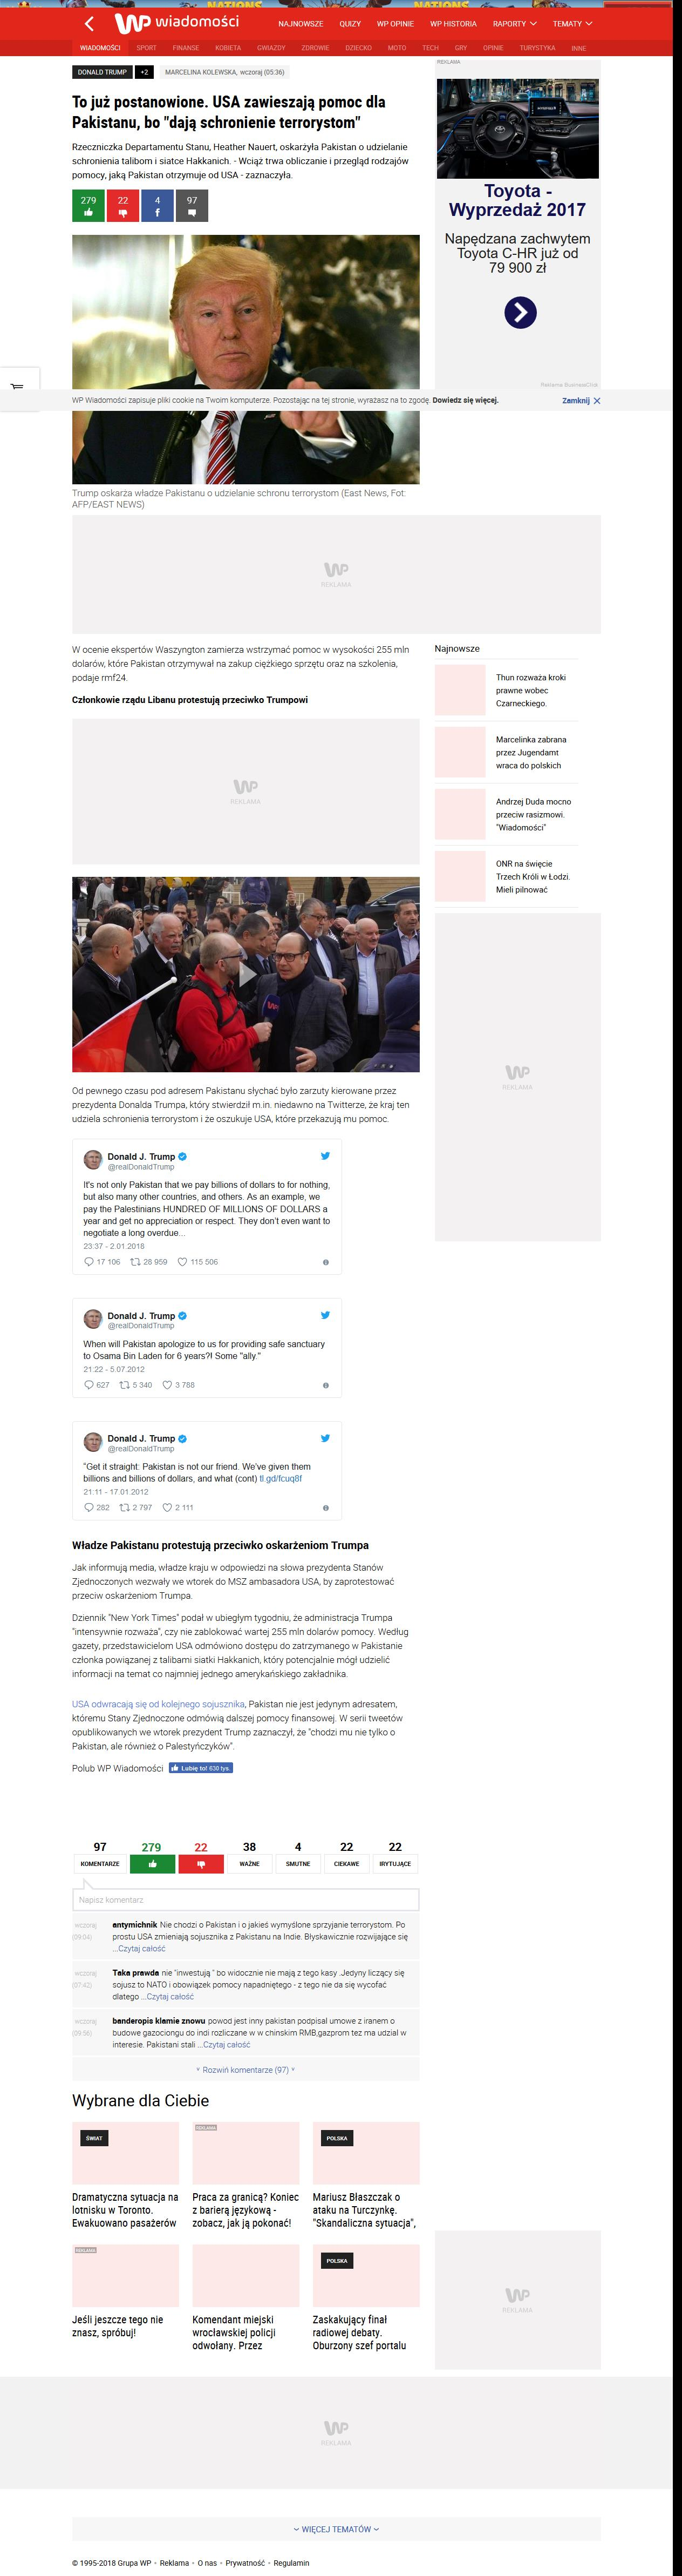title: (71, 95, 386, 131)
